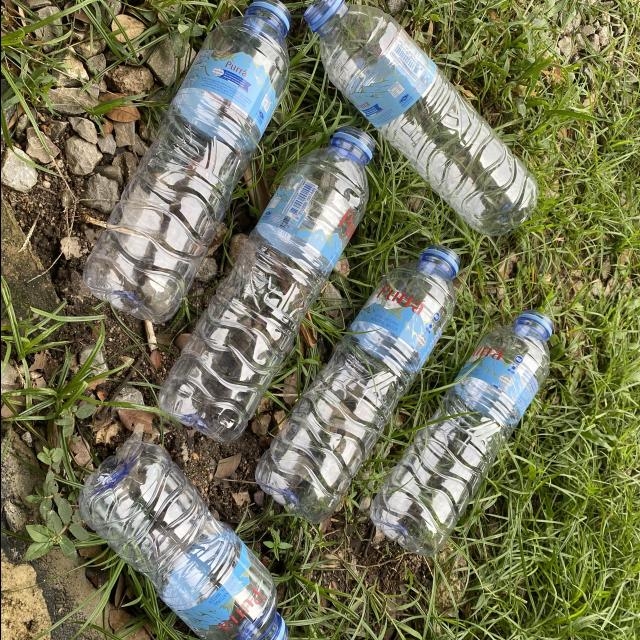plastik: (159, 128, 373, 444), (84, 0, 288, 322), (255, 246, 458, 524), (302, 0, 537, 236), (369, 311, 552, 556), (77, 434, 288, 640)
